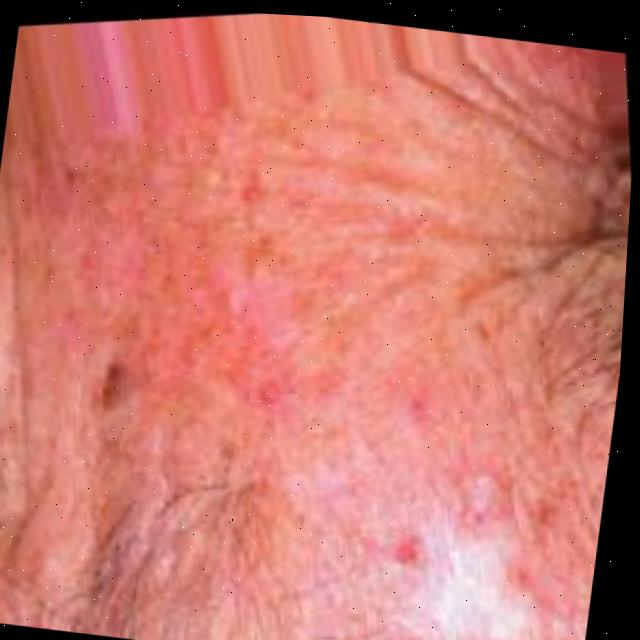Eczema: (20, 101, 595, 617)
